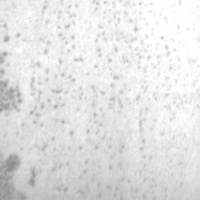pitted_surface: (29, 0, 184, 176), (0, 20, 25, 115), (0, 151, 26, 197)
